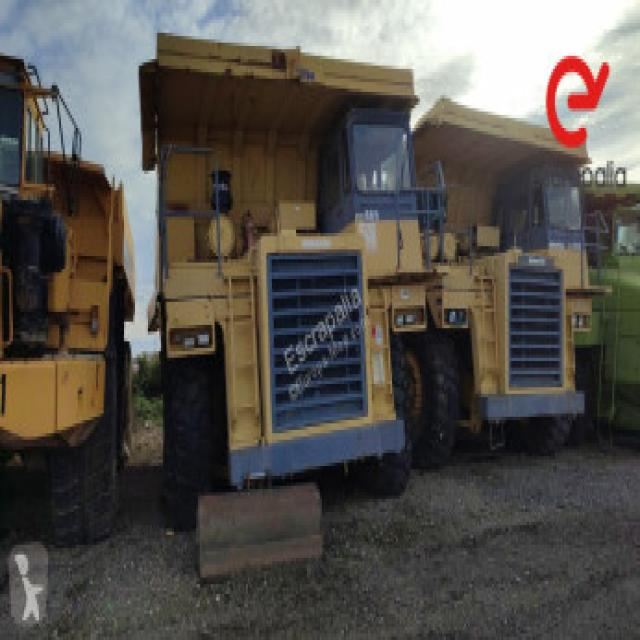dump_truck: (148, 39, 428, 488), (426, 92, 596, 460)
